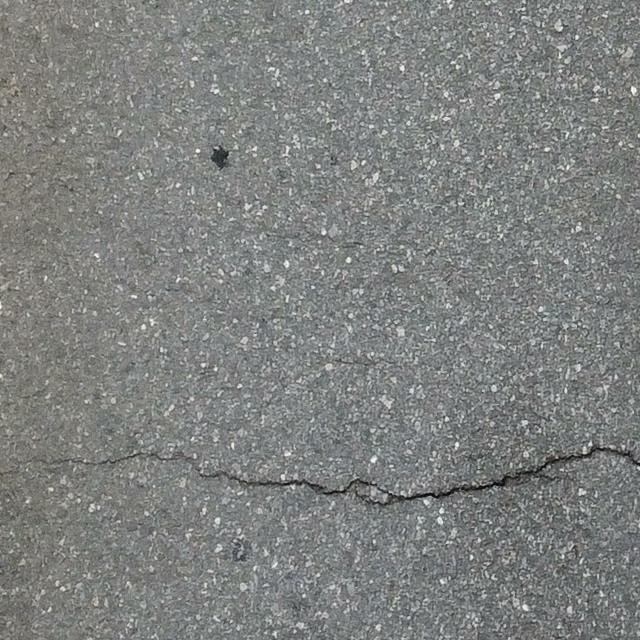TransverseCrack: (29, 446, 639, 510)
